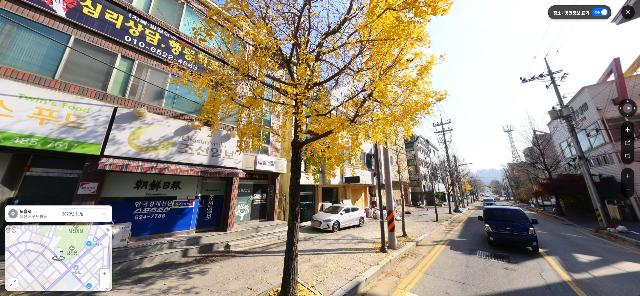ginkgo: (166, 0, 453, 296), (370, 123, 416, 237), (461, 183, 472, 208)
other: (511, 109, 577, 215), (408, 139, 442, 221), (433, 145, 474, 213), (499, 160, 531, 207)
